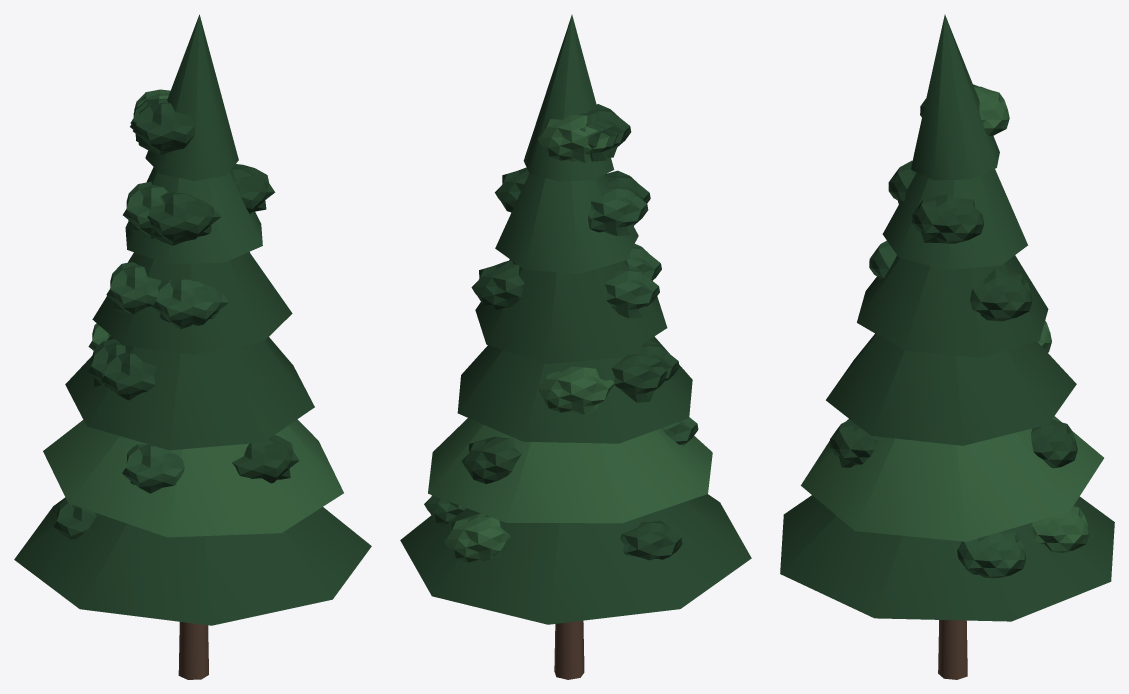
File: tree-pine-1.obj
3 renders of one model, left to right at view 1: azimuth 30°, elevation 25°; view 2: azimuth 150°, elevation 25°; view 3: azimuth 270°, elevation 25°, orthographic.
Visible parts, largest first — view 1: part1; view 2: part1; view 3: part1.
Part boxes in pixels (x1,y1,x2,y2): part1: (14,14,371,679); part1: (400,14,751,679); part1: (780,14,1114,679).
Bounding box in the file's own units: 4.29 × 9.35 × 4.3.
